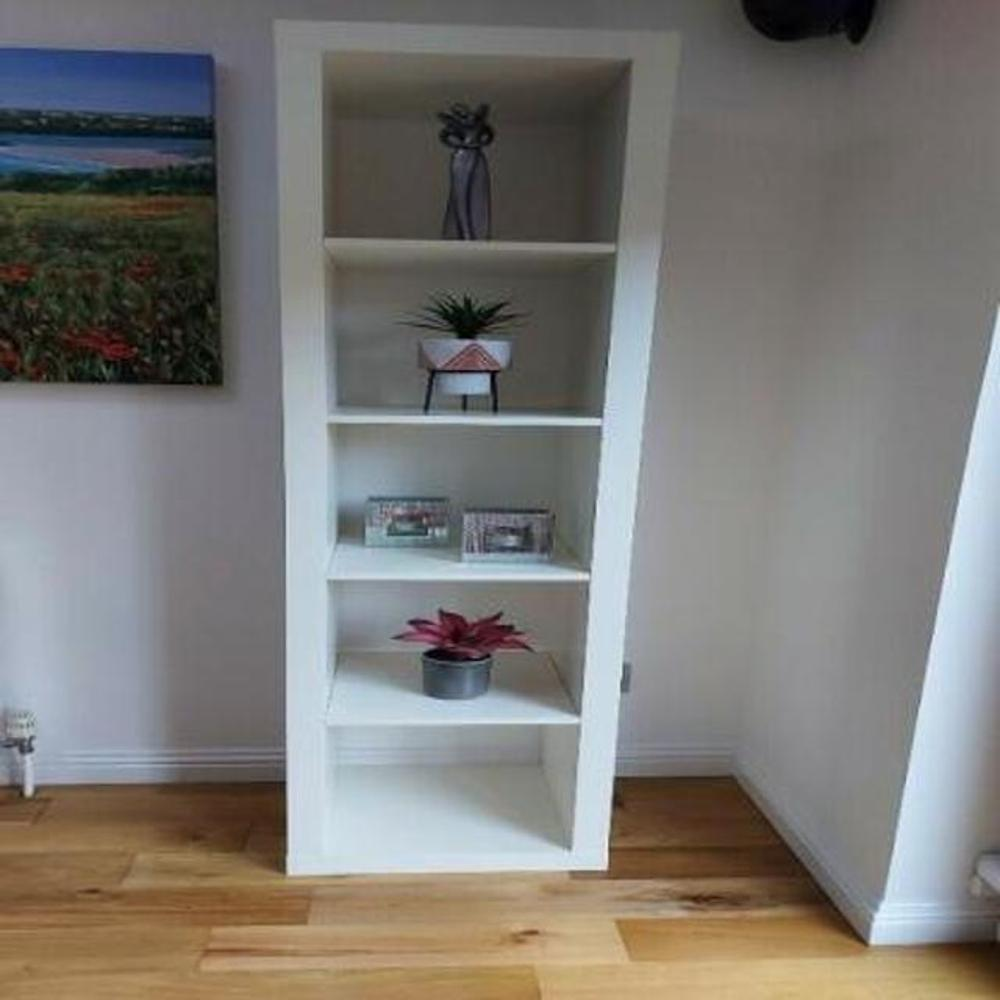lamp: (261, 17, 683, 882)
